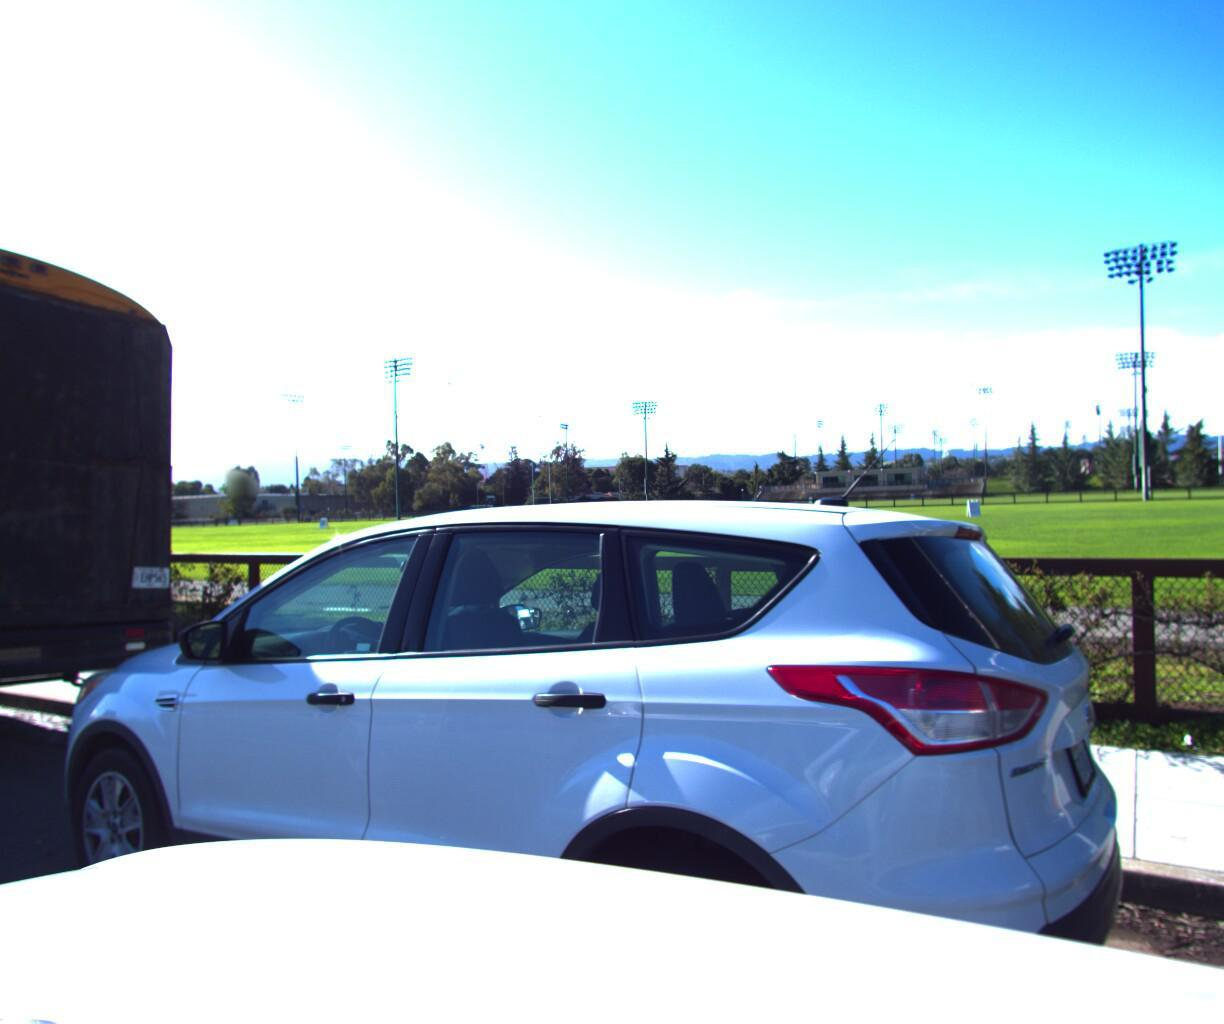bus: (0, 135, 221, 855)
car: (0, 464, 1137, 1024)
